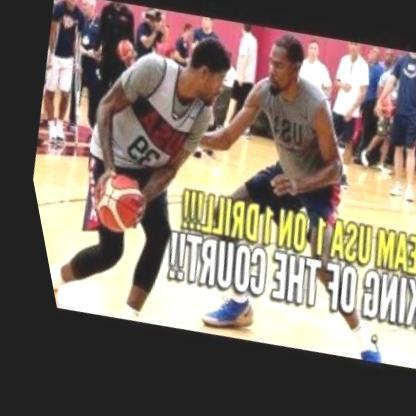basketball: (62, 162, 152, 250)
